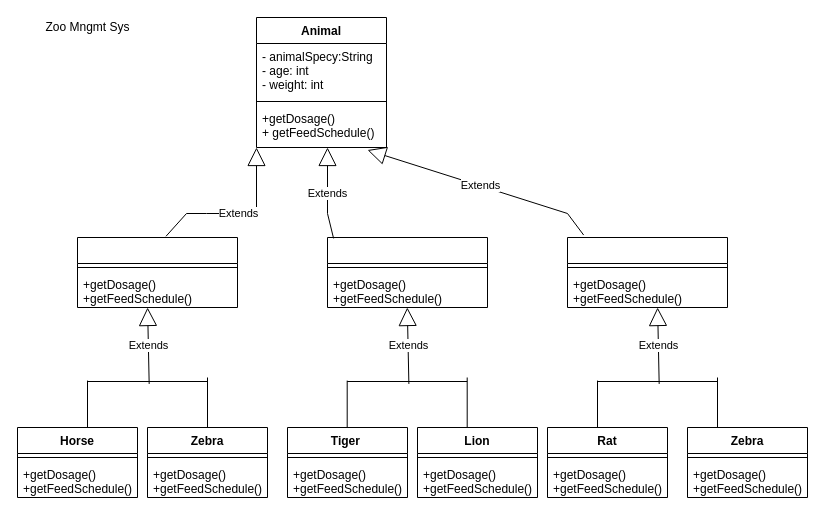
This 825x518 diagram has some shape labels left out. The shapes that lost their labels are listed below. From the top down, each one's box as (x1, y1, x2, y2) in pixels, then its label:
(76, 236, 238, 308): Horses
(326, 236, 488, 308): Felines
(566, 236, 728, 308): Rodents
